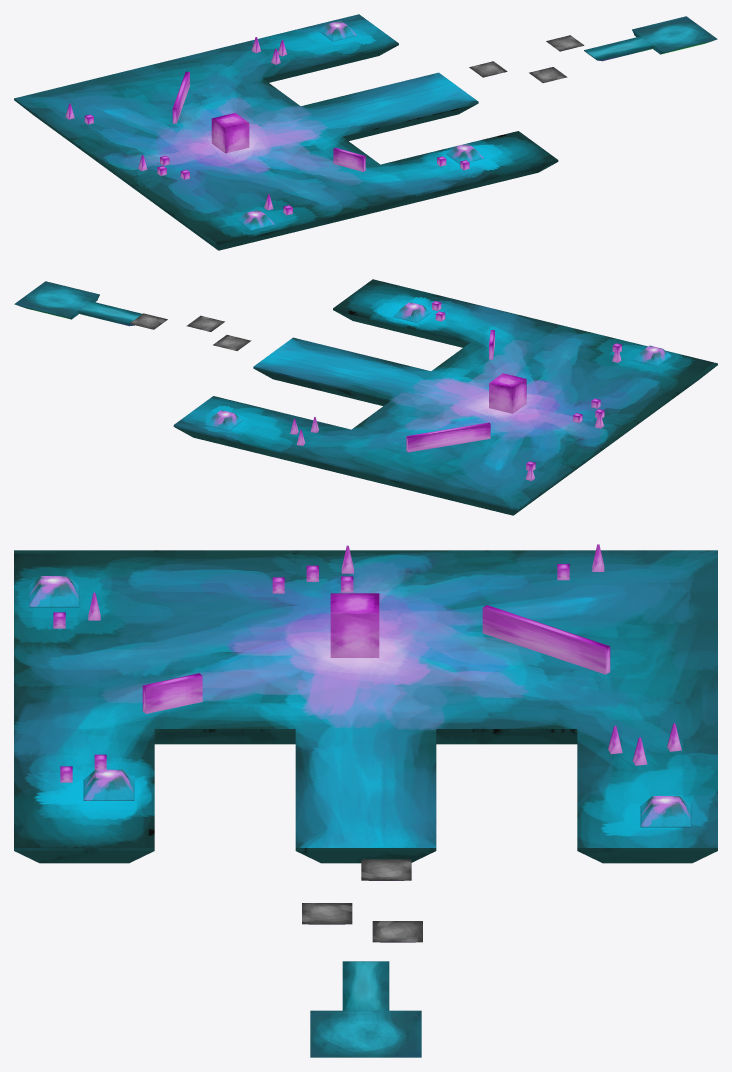
File: eine_neues_Welt.glb
The picture shows the model from 3 angles, top to bottom: view 1: azimuth 30°, elevation 25°; view 2: azimuth 150°, elevation 25°; view 3: azimuth 270°, elevation 25°; orthographic projection. The views are drawn at different scales.
Parts seen in each view (by area): view 1: Plane.002, Plane, Cube.014, Plane.001, Cube.015, Plane.007, Plane.006, Plane.008, Cube.016; view 2: Plane.002, Plane, Cube.016, Cube.014, Plane.001, Plane.007, Plane.006, Plane.008; view 3: Plane.002, Plane, Cube.016, Cube.014, Plane.001, Cube.015, Plane.006, Plane.008, Plane.007, Plane.005, Plane.003, Plane.004.
Boxes of the visible parts, bbox=[...] form: Plane.002: bbox=[14, 14, 558, 250]; Plane: bbox=[632, 16, 717, 54]; Cube.014: bbox=[211, 112, 249, 153]; Plane.001: bbox=[584, 36, 654, 61]; Cube.015: bbox=[333, 147, 365, 171]; Plane.007: bbox=[237, 209, 274, 230]; Plane.006: bbox=[319, 20, 356, 41]; Plane.008: bbox=[446, 143, 484, 164]; Cube.016: bbox=[172, 71, 189, 123]; Plane.002: bbox=[173, 279, 717, 515]; Plane: bbox=[14, 281, 99, 319]; Cube.016: bbox=[406, 422, 490, 452]; Cube.014: bbox=[489, 373, 526, 413]; Plane.001: bbox=[77, 301, 142, 326]; Plane.007: bbox=[633, 345, 671, 366]; Plane.006: bbox=[205, 410, 243, 430]; Plane.008: bbox=[393, 302, 431, 322]; Plane.002: bbox=[14, 550, 717, 863]; Plane: bbox=[310, 1010, 421, 1057]; Cube.016: bbox=[482, 605, 610, 674]; Cube.014: bbox=[330, 593, 379, 657]; Plane.001: bbox=[342, 961, 389, 1010]; Cube.015: bbox=[142, 673, 202, 713]; Plane.006: bbox=[640, 796, 691, 827]; Plane.008: bbox=[83, 769, 134, 800]; Plane.007: bbox=[29, 576, 79, 607]; Plane.005: bbox=[361, 859, 411, 880]; Plane.003: bbox=[372, 921, 422, 942]; Plane.004: bbox=[302, 903, 352, 924].
Bounding box in the file's own units: 290 × 18.87 × 170.
8 materials, 8 textured.
